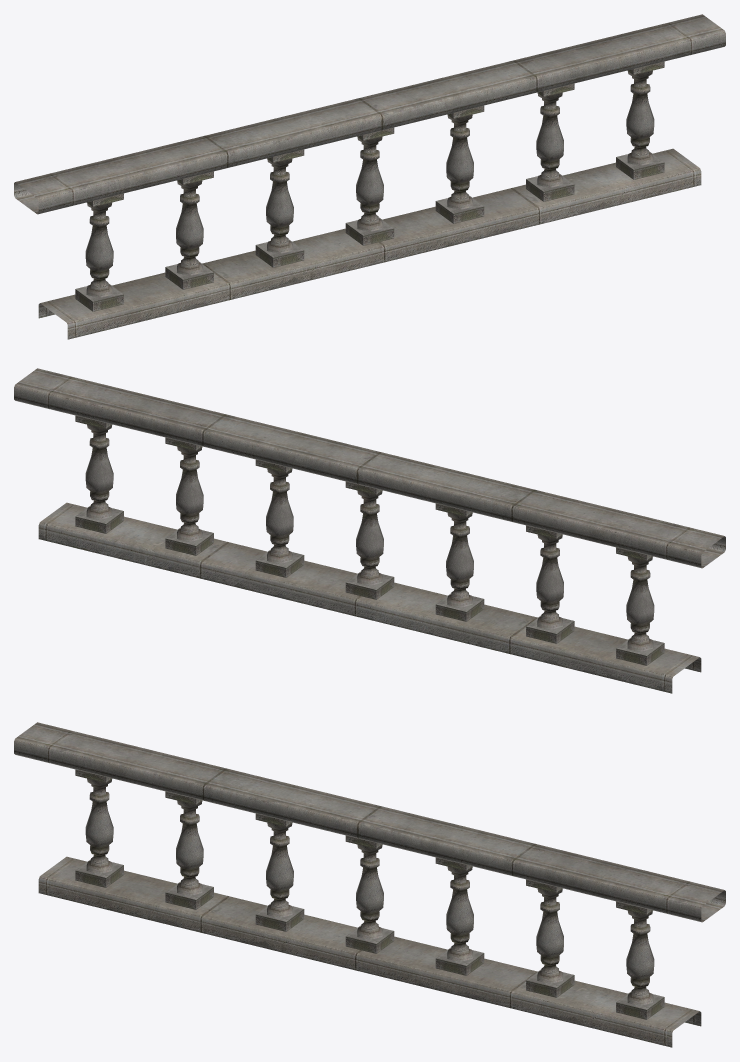
Rendered from Wall4.fbx.
The picture shows the model from 3 angles, top to bottom: view 1: azimuth 30°, elevation 25°; view 2: azimuth 150°, elevation 25°; view 3: azimuth 330°, elevation 25°; orthographic projection.
Parts seen in each view (by area): view 1: LV_Campagna_Uni_InRail02_SM_CJH; view 2: LV_Campagna_Uni_InRail02_SM_CJH; view 3: LV_Campagna_Uni_InRail02_SM_CJH.
Part boxes in pixels (x1,y1,x2,y2): LV_Campagna_Uni_InRail02_SM_CJH: (14,14,725,339); LV_Campagna_Uni_InRail02_SM_CJH: (14,368,725,693); LV_Campagna_Uni_InRail02_SM_CJH: (14,722,725,1047).
Size of the model in its own units: 1.78 by 0.36 by 0.13.
